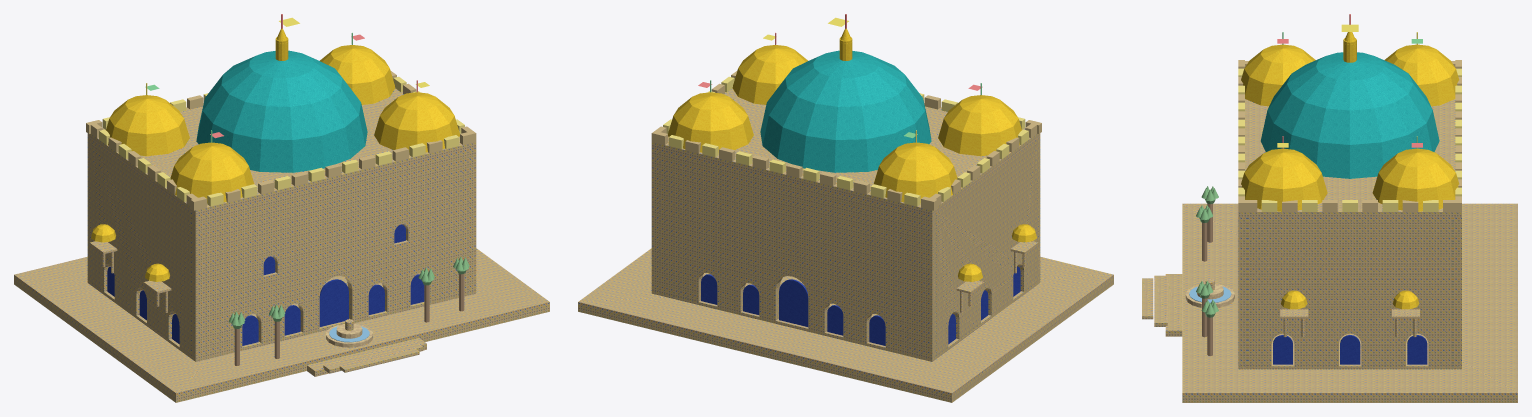
File: mahal_palace_vibrant.glb
3 views of the same model, side by side, from view 1: azimuth 30°, elevation 25°; view 2: azimuth 150°, elevation 25°; view 3: azimuth 270°, elevation 25° (orthographic). The views are drawn at different scales.
Parts seen in each view (by area): view 1: MahalPalaceVibrant; view 2: MahalPalaceVibrant; view 3: MahalPalaceVibrant.
Boxes of the visible parts, x1,y1,x2,y2 form: MahalPalaceVibrant: (14,14,549,402); MahalPalaceVibrant: (578,14,1113,402); MahalPalaceVibrant: (1142,14,1517,402).
Size of the model in its own units: 40 by 29 by 33.6.
Materials: 13 (5 with a texture image).
